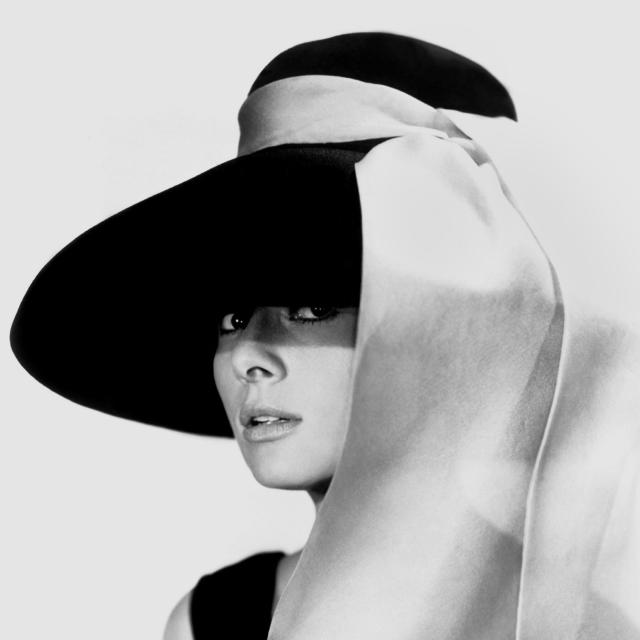hat: (13, 29, 537, 488)
